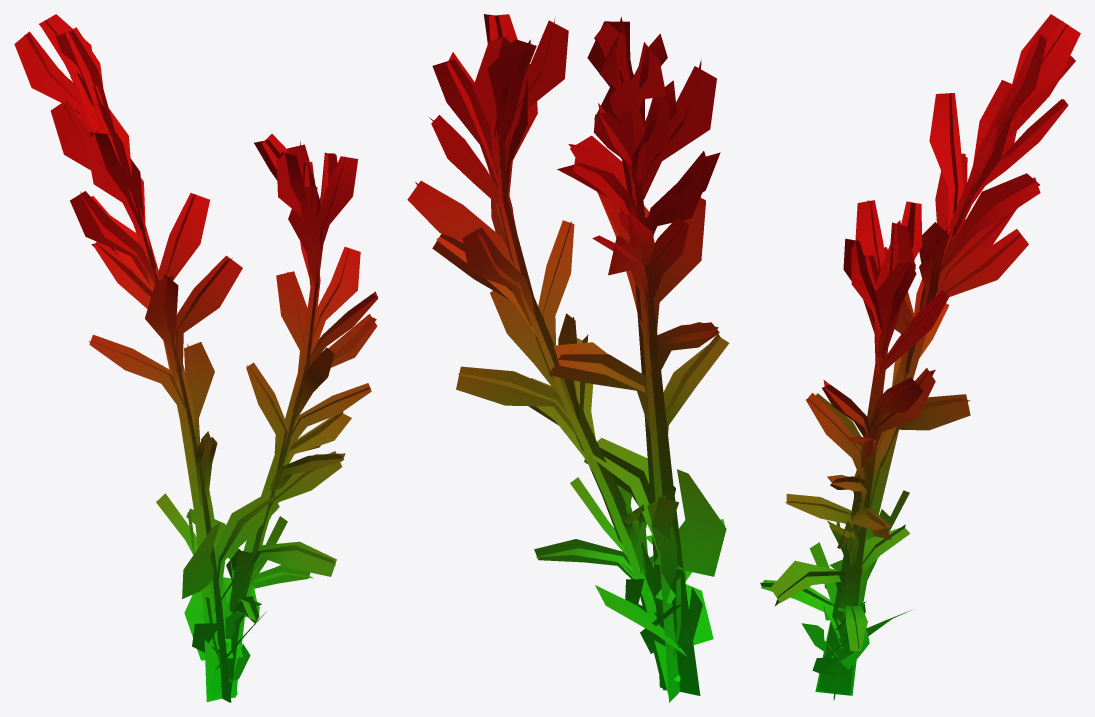
Rendered from Var6_LOD1.fbx.
3 renders of one model, left to right at view 1: azimuth 30°, elevation 25°; view 2: azimuth 150°, elevation 25°; view 3: azimuth 270°, elevation 25°, orthographic. The views are drawn at different scales.
Visible parts, largest first — view 1: _d5df_Var6_LOD1; view 2: _d5df_Var6_LOD1; view 3: _d5df_Var6_LOD1.
Boxes of the visible parts, x1,y1,x2,y2 form: _d5df_Var6_LOD1: (14,14,378,702); _d5df_Var6_LOD1: (407,14,729,702); _d5df_Var6_LOD1: (760,14,1080,700).
Size of the model in its own units: 38.11 by 83.39 by 37.7.
